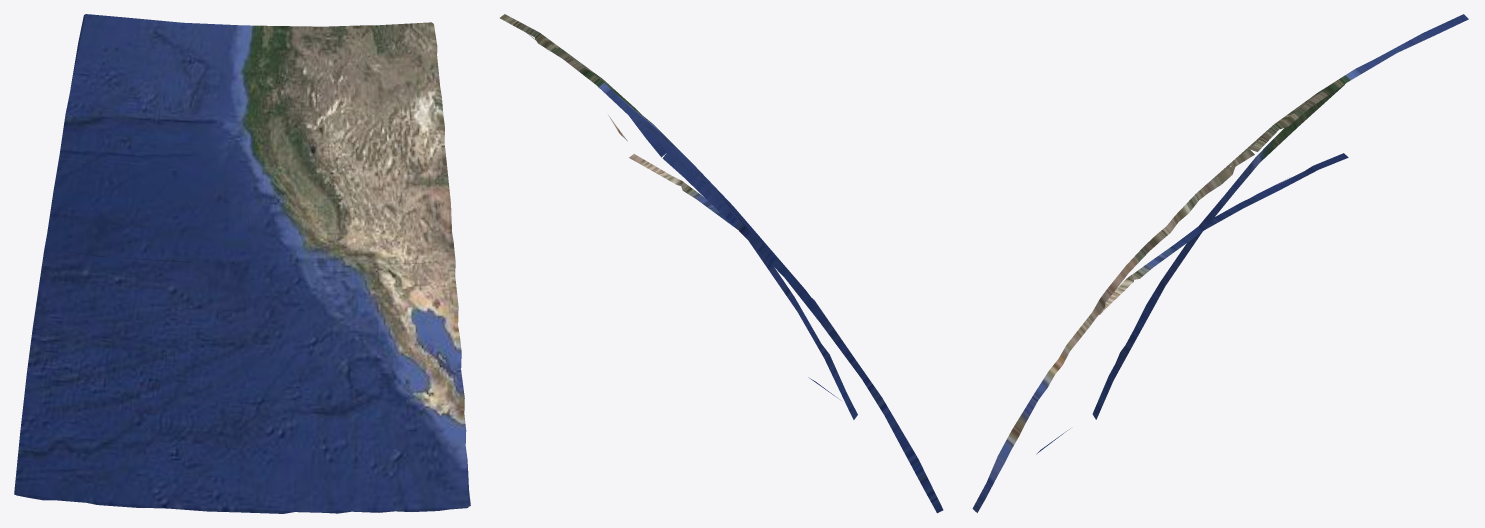
3 renders of one model, left to right at view 1: azimuth 30°, elevation 25°; view 2: azimuth 150°, elevation 25°; view 3: azimuth 270°, elevation 25°, orthographic. The views are drawn at different scales.
Bounding box in the file's own units: 2471600 × 2109143 × 2288940.
1 material, 1 textured.
